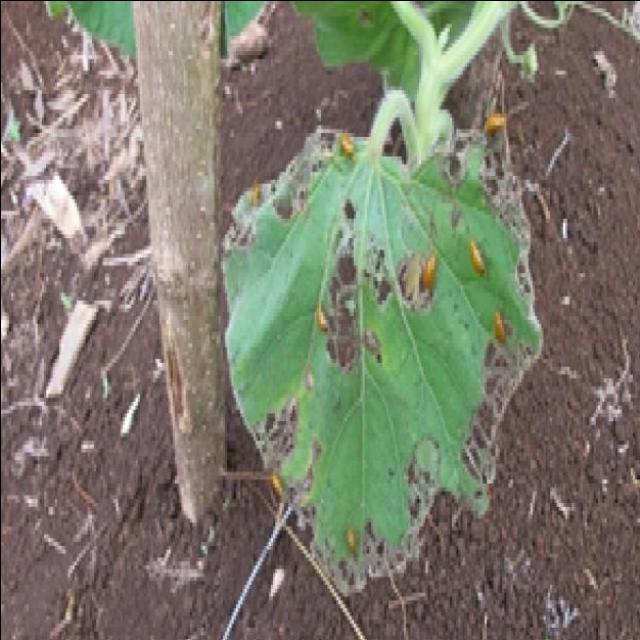Pumpkin Beetle: (301, 229, 386, 379), (458, 344, 524, 485), (267, 116, 361, 211), (393, 426, 451, 569), (265, 426, 331, 526), (322, 522, 386, 600), (392, 238, 442, 322), (228, 165, 267, 254), (473, 90, 517, 156), (479, 299, 527, 346), (460, 222, 492, 292), (518, 324, 522, 326)
